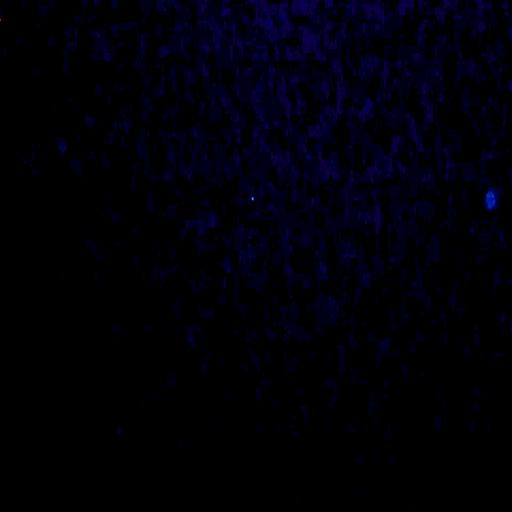object-detection-project: (251, 197, 254, 200)
